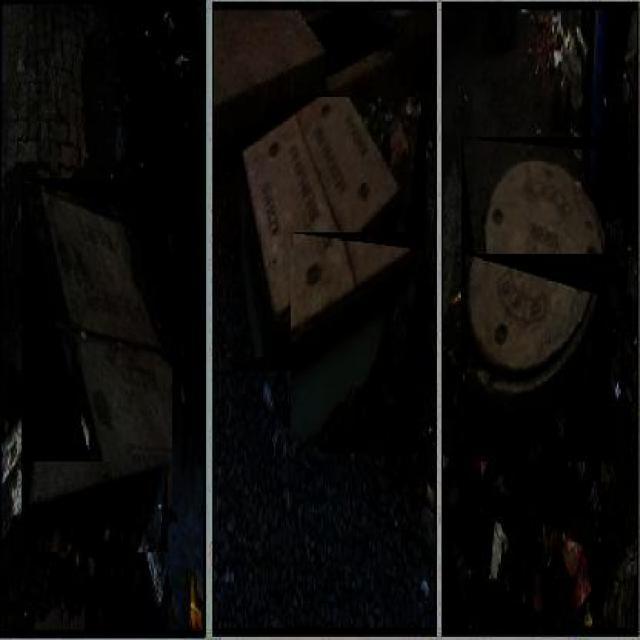Manhole: (234, 97, 426, 371), (21, 178, 172, 524), (462, 137, 604, 365), (291, 232, 424, 454), (466, 254, 605, 462), (26, 462, 168, 552)
